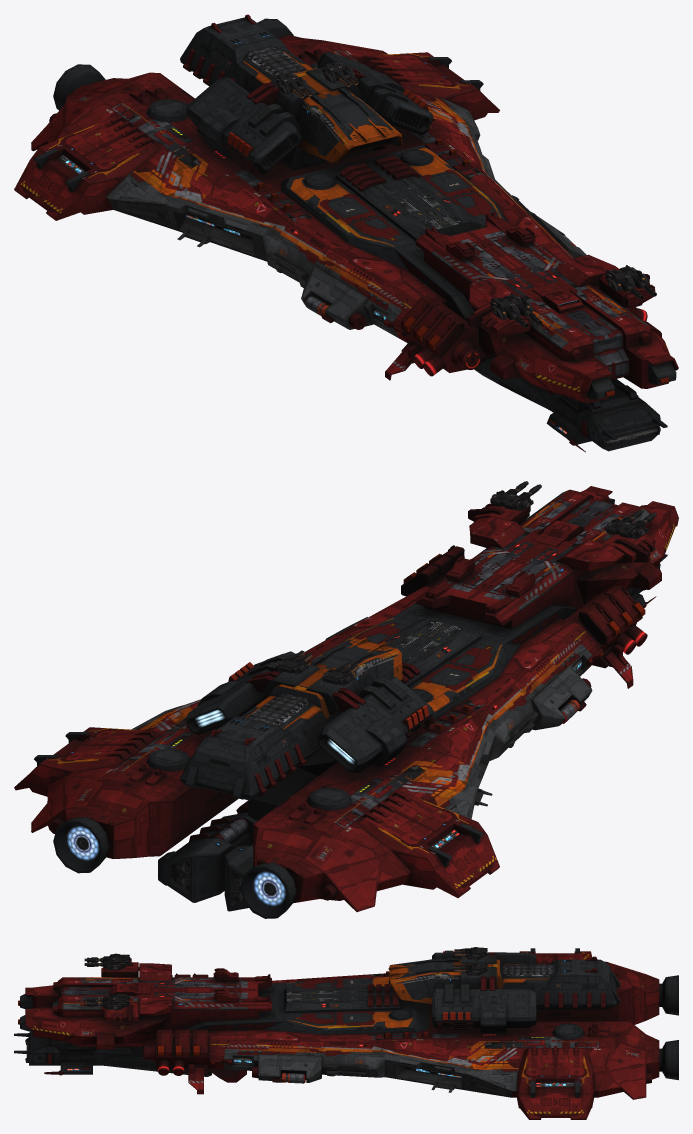
File: K4_Green.FBX
The picture shows the model from 3 angles, top to bottom: view 1: azimuth 30°, elevation 25°; view 2: azimuth 150°, elevation 25°; view 3: azimuth 270°, elevation 25°; orthographic projection. The views are drawn at different scales.
Visible parts, largest first — view 1: Destroyer-K4; view 2: Destroyer-K4; view 3: Destroyer-K4, K4_Ion-X02, K4_Ion-X2.
Part boxes in pixels (box(x1,y1,x2,y2)): Destroyer-K4: box(14, 14, 678, 452); Destroyer-K4: box(14, 486, 678, 918); Destroyer-K4: box(14, 948, 678, 1119); K4_Ion-X02: box(106, 953, 130, 970); K4_Ion-X2: box(106, 993, 130, 1009).
Bounding box in the file's own units: 975 × 347 × 1776.
Materials: 3 (3 with a texture image).
